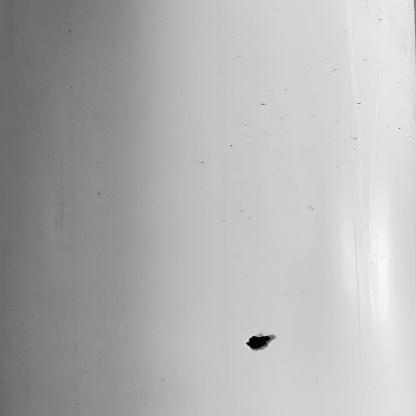kongdong: (238, 310, 288, 354)
